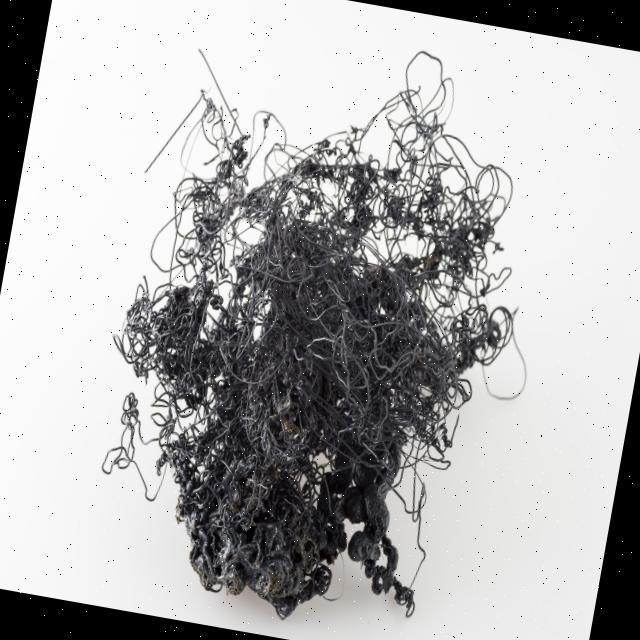spaghetti: (71, 1, 584, 640)
